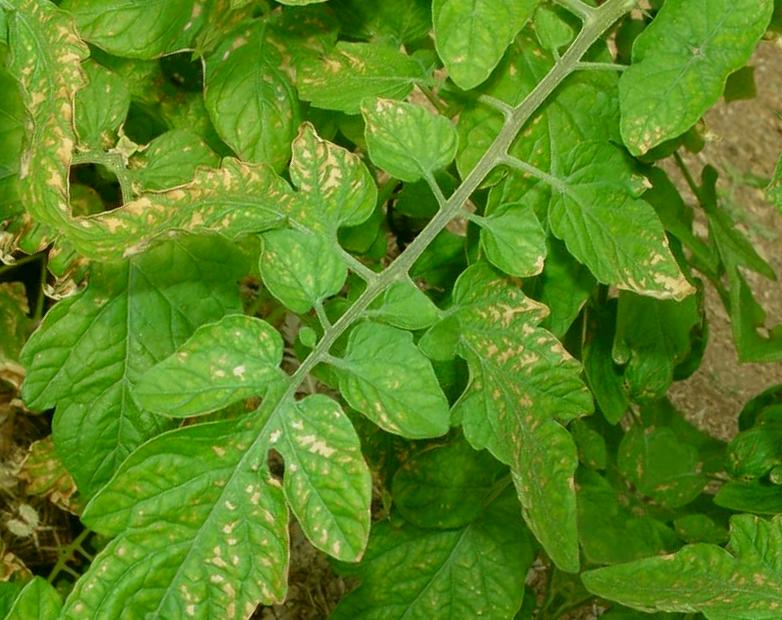Tomato leaf bacterial spot: (55, 19, 433, 401), (322, 229, 696, 582), (45, 349, 389, 620), (493, 98, 777, 373), (214, 362, 450, 593), (526, 0, 762, 223), (297, 298, 483, 477), (129, 281, 305, 464), (336, 65, 497, 219), (356, 0, 561, 117), (451, 175, 580, 301)
